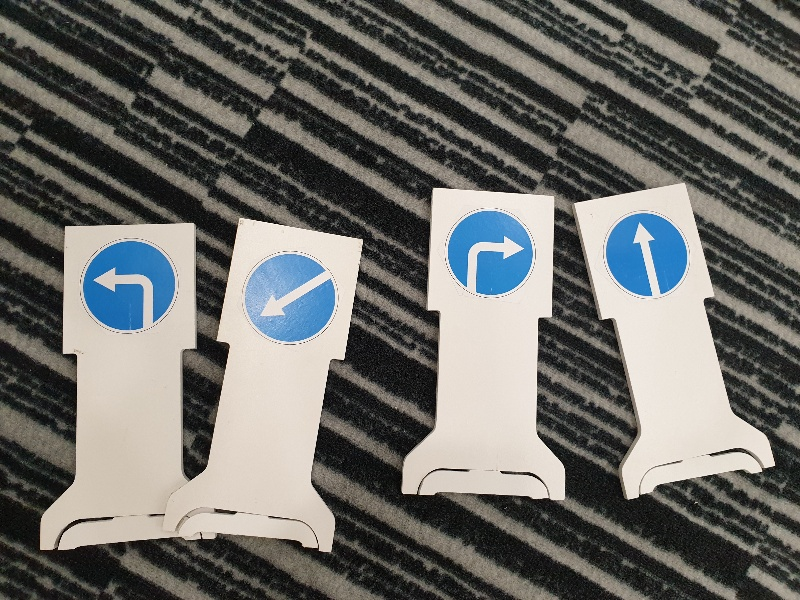Left: (75, 235, 183, 340)
Right: (439, 203, 539, 306)
forw: (596, 205, 695, 306)
prep: (234, 244, 342, 349)
